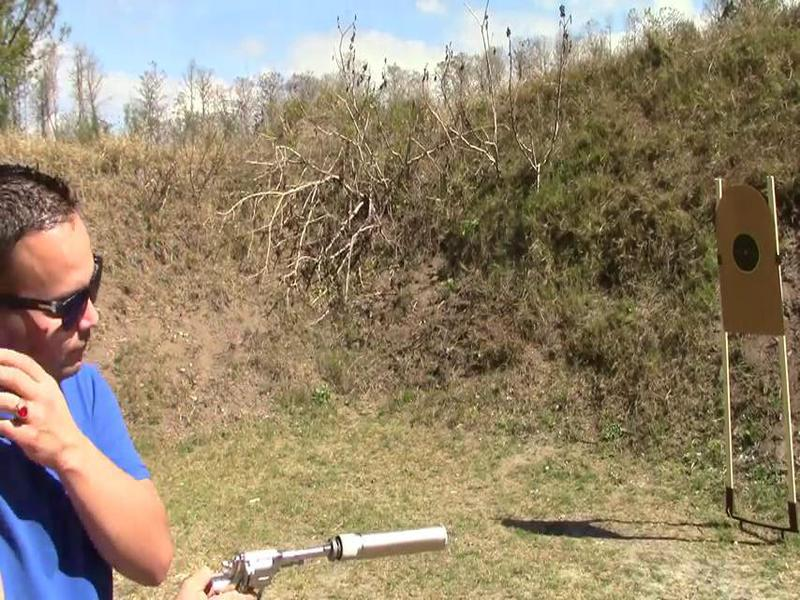Revolver: (217, 530, 333, 600)
